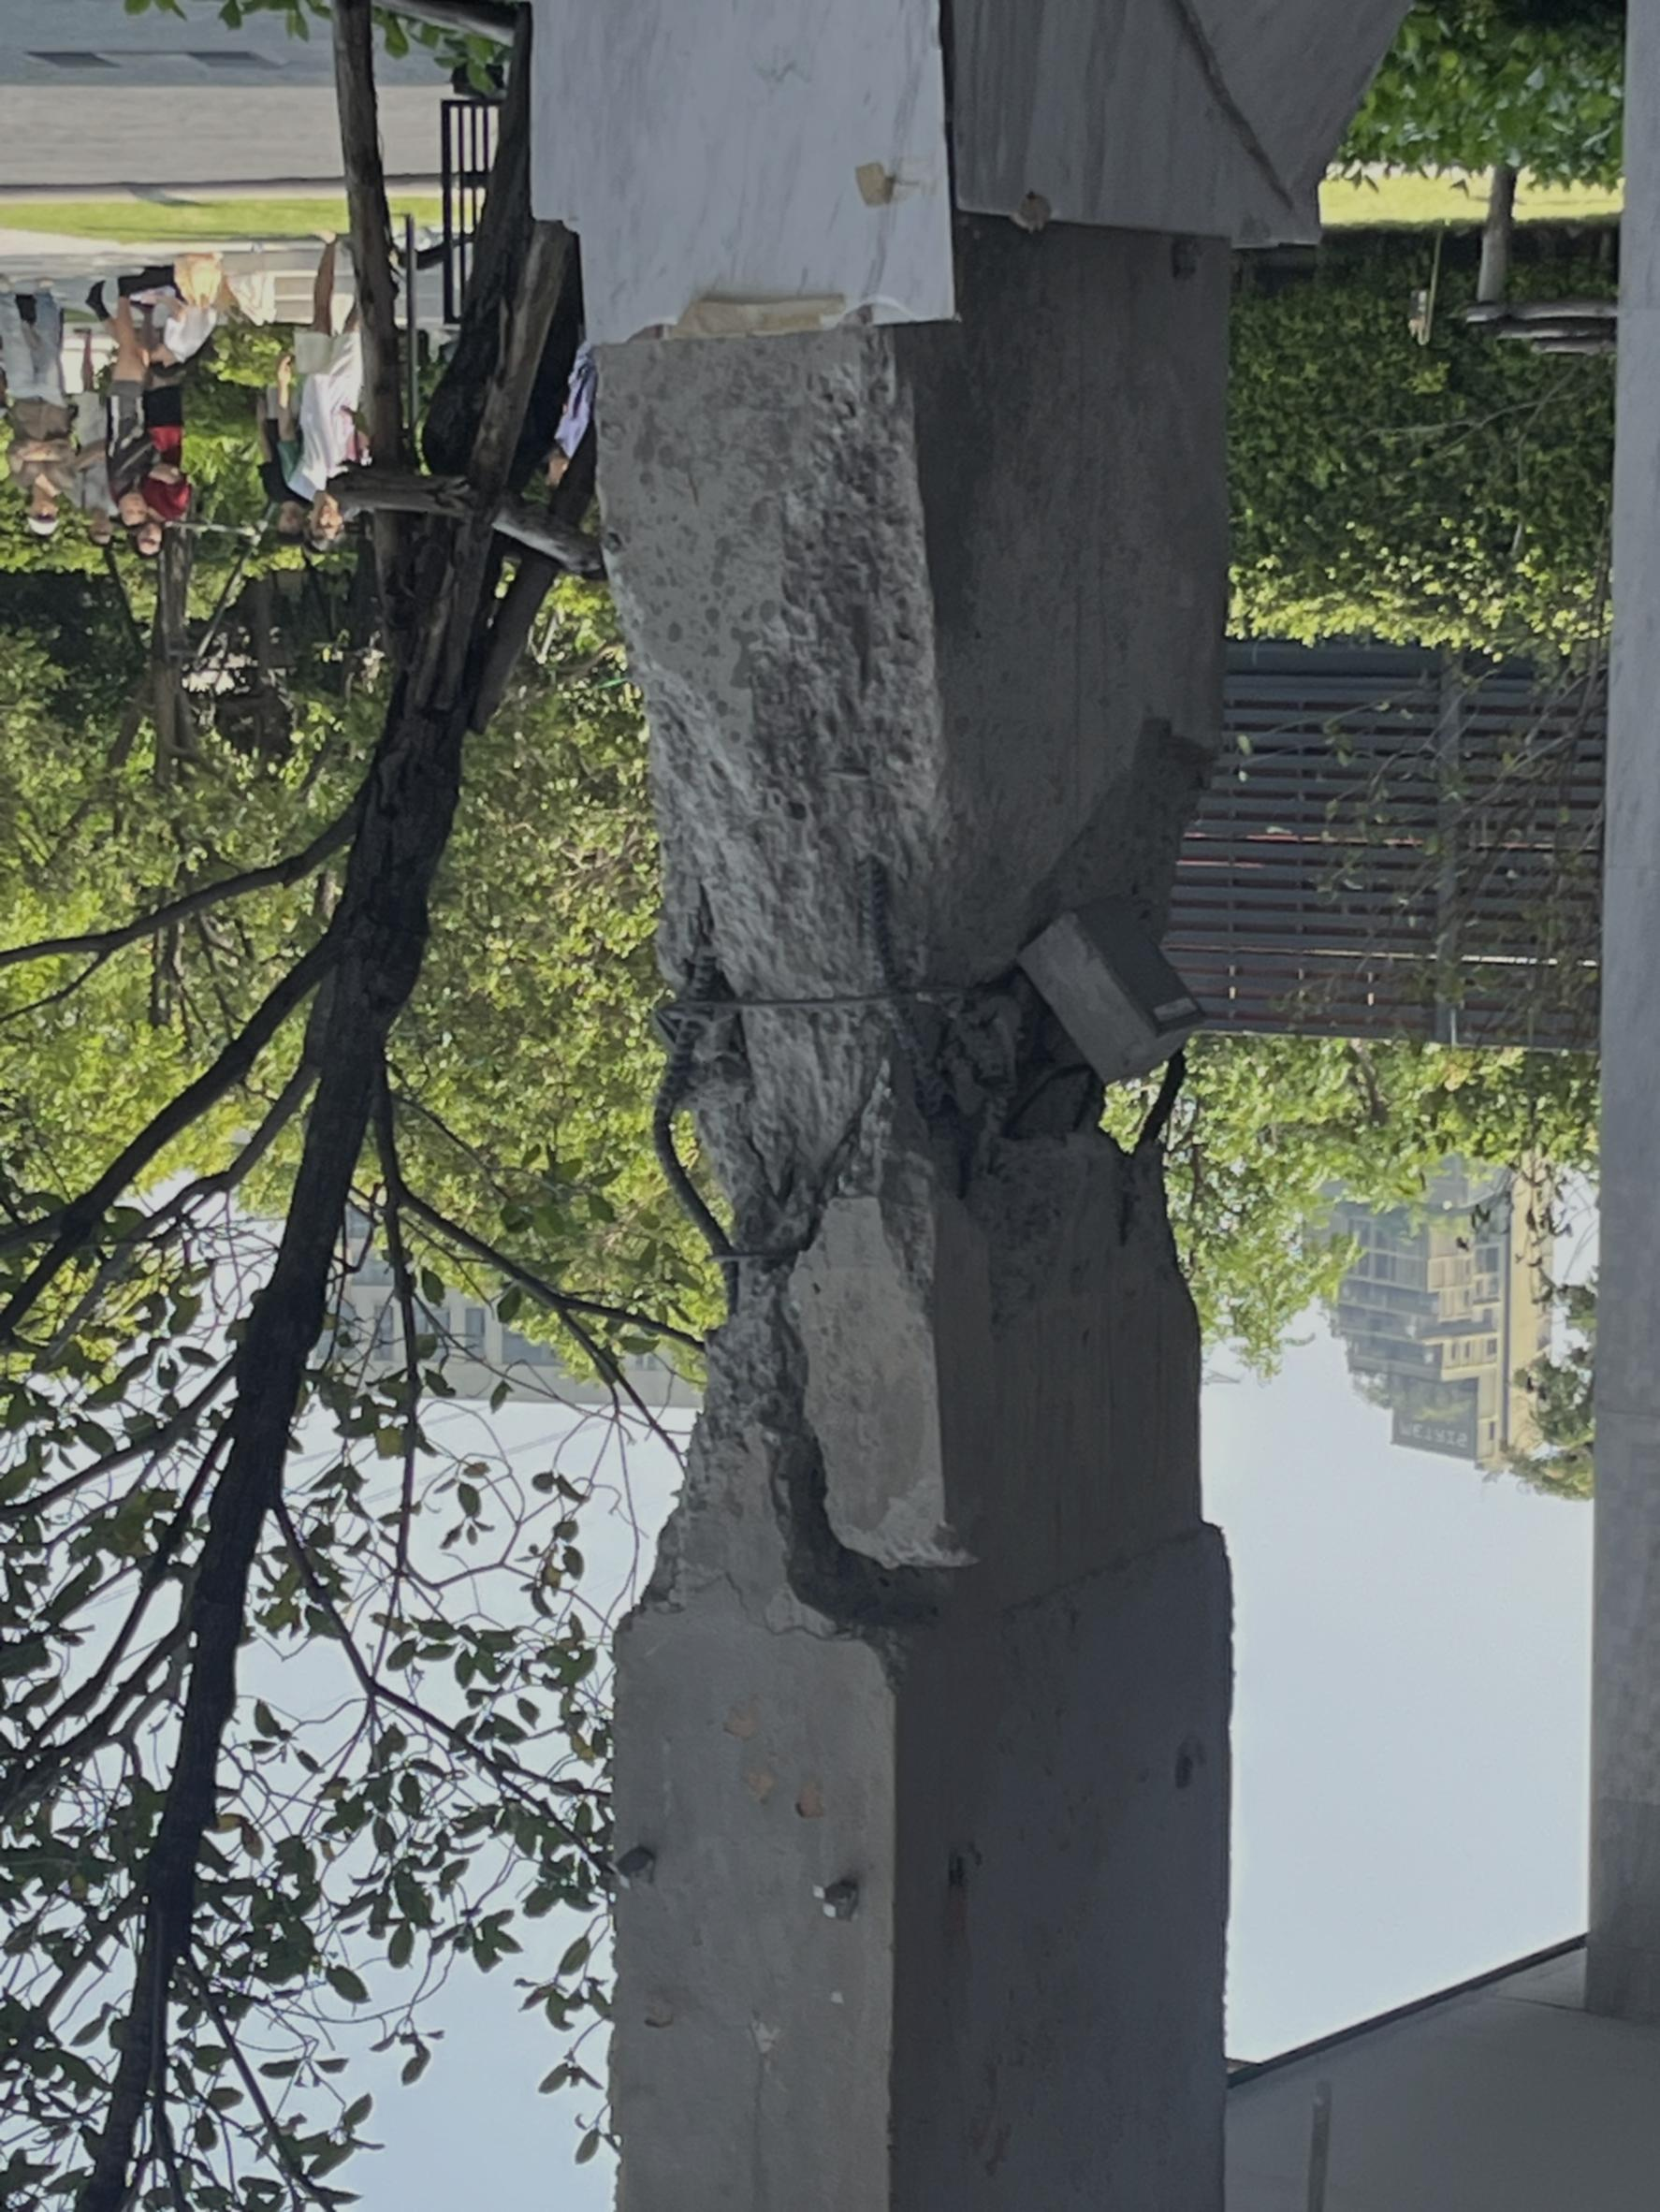High: (478, 181, 1269, 1748)
